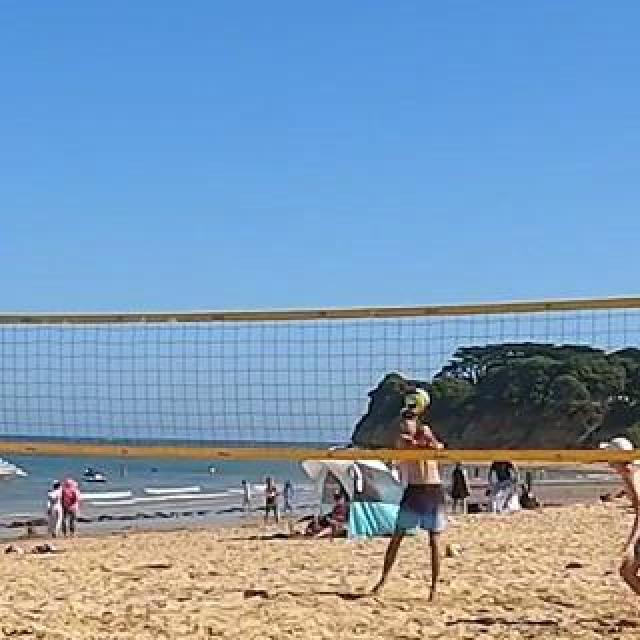volleyball: (407, 388, 431, 412)
